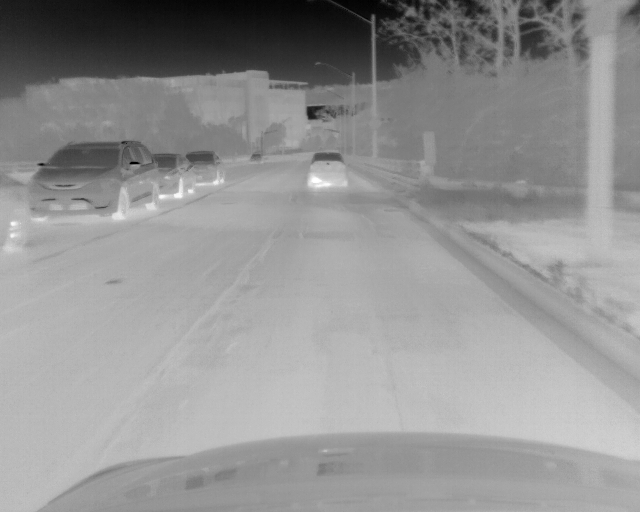car: (32, 142, 159, 222), (1, 167, 34, 250), (148, 154, 192, 197), (306, 150, 348, 188), (188, 151, 223, 185), (246, 152, 261, 165)
